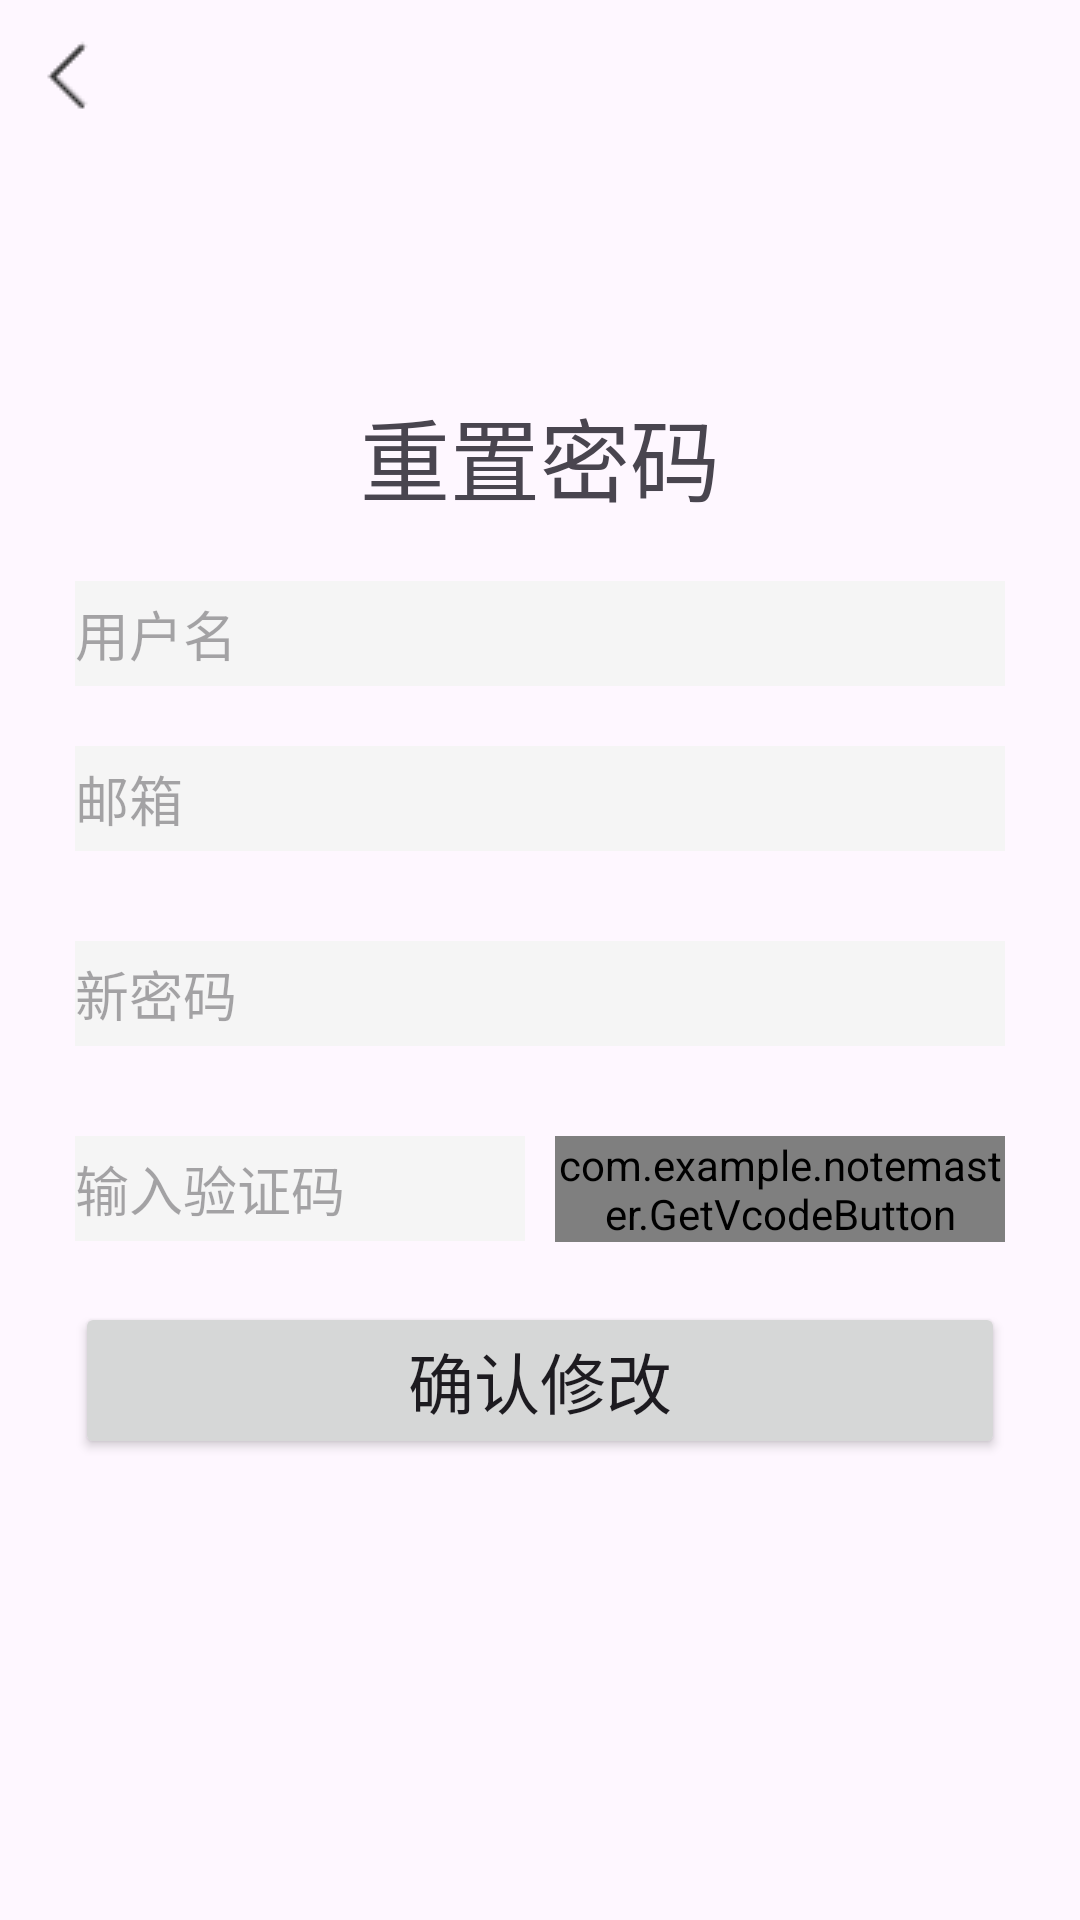

Icon bounding boxes for this 1080*1920 phone screenshot, format (x1, y1, x2, y2):
back: (47, 43, 86, 109)
